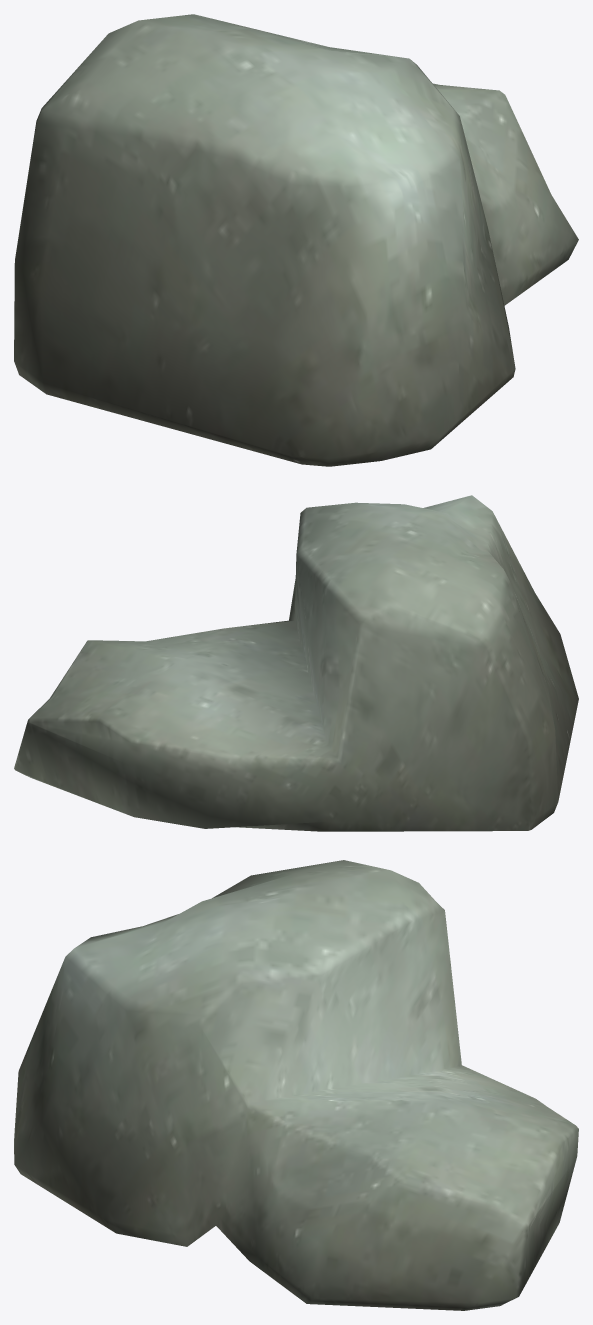
File: rock-e.glb
3 views of the same model, one above another, from view 1: azimuth 30°, elevation 25°; view 2: azimuth 150°, elevation 25°; view 3: azimuth 270°, elevation 25° (orthographic). The views are drawn at different scales.
Visible parts, largest first — view 1: StoneE_node1; view 2: StoneE_node1; view 3: StoneE_node1.
Part boxes in pixels (<box>): StoneE_node1: <box>14,14,578,466</box>; StoneE_node1: <box>14,495,578,831</box>; StoneE_node1: <box>14,860,578,1310</box>.
Bounding box in the file's own units: 0.9989 × 0.5157 × 0.9784.
1 material, 1 textured.
